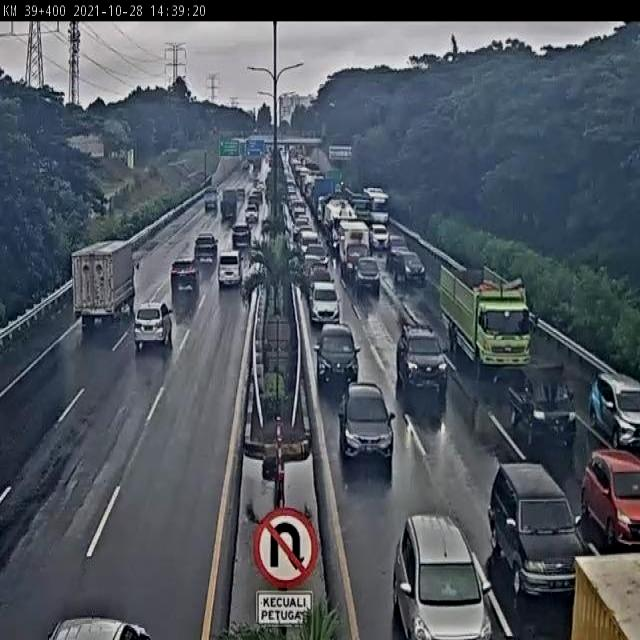Bus: (364, 185, 393, 224)
Car: (488, 462, 582, 600), (399, 520, 488, 640), (580, 449, 640, 552), (506, 370, 577, 452), (339, 376, 393, 466), (587, 372, 640, 451), (396, 326, 448, 402), (314, 323, 360, 391), (130, 300, 178, 357), (44, 616, 154, 638), (308, 279, 340, 326), (170, 258, 200, 308), (391, 248, 427, 287), (354, 255, 382, 297), (218, 249, 242, 288), (194, 233, 218, 270), (307, 262, 332, 295), (303, 244, 327, 273), (298, 228, 320, 256), (231, 224, 251, 252), (370, 226, 390, 253), (204, 189, 218, 212), (248, 188, 263, 209), (244, 203, 258, 224)
Truck: (436, 264, 544, 368), (60, 237, 138, 329), (564, 548, 639, 640), (336, 221, 370, 281), (321, 196, 357, 234), (221, 189, 238, 220)
